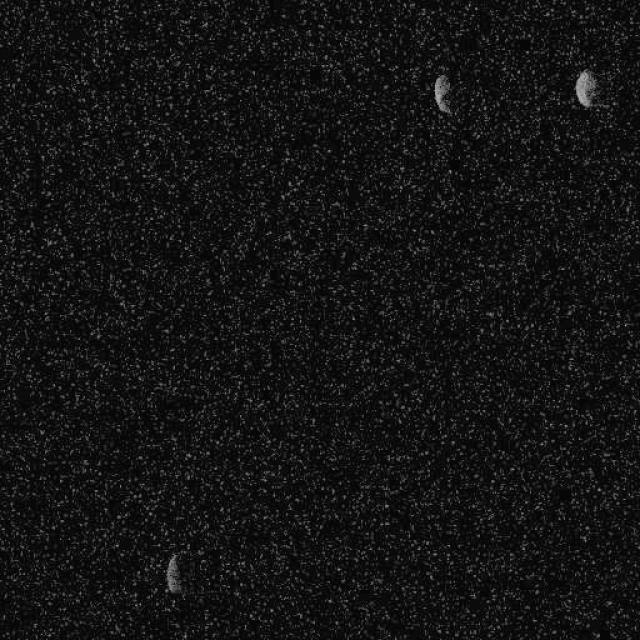D2: (574, 68, 596, 108), (432, 74, 452, 114), (165, 553, 183, 595)
